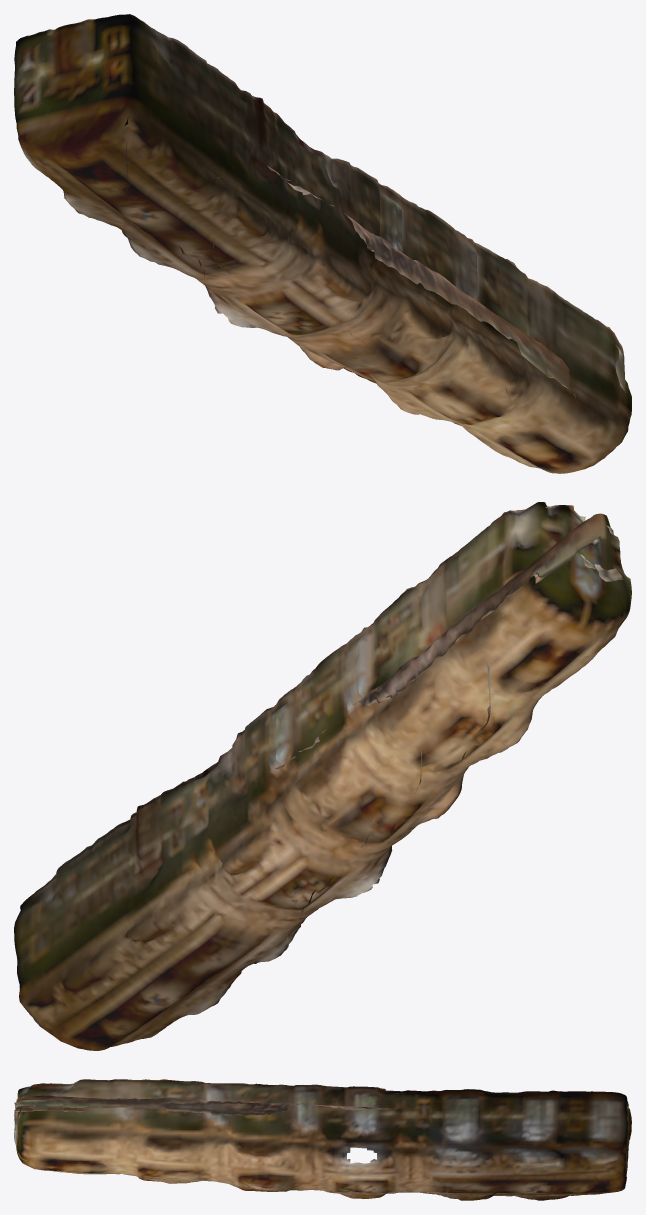
File: abby-museum-collider.glb
3 views of the same model, one above another, from view 1: azimuth 30°, elevation 25°; view 2: azimuth 150°, elevation 25°; view 3: azimuth 270°, elevation 25° (orthographic). The views are drawn at different scales.
Parts seen in each view (by area): view 1: world; view 2: world; view 3: world.
Boxes of the visible parts, box(x1,y1,x2,y2) form: world: box(14, 14, 631, 473); world: box(14, 502, 631, 1050); world: box(14, 1079, 631, 1200).
Size of the model in its own units: 2.24 by 2.63 by 14.53.
